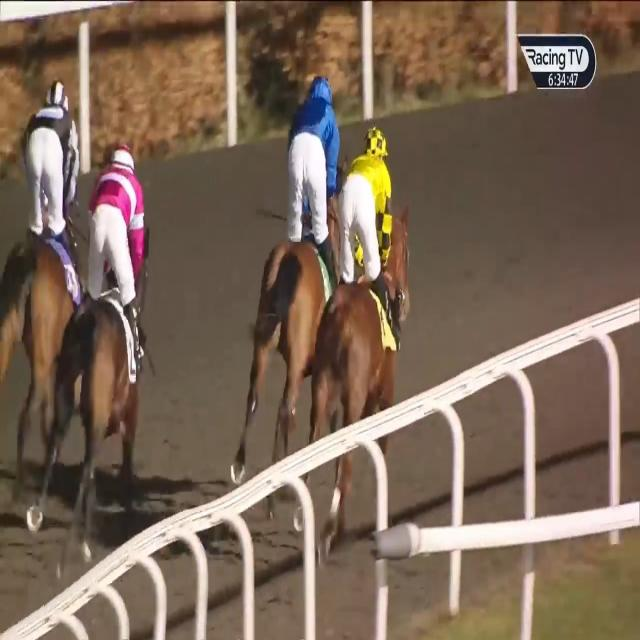horses-racing: (240, 71, 352, 464), (54, 141, 150, 554), (320, 113, 420, 498), (0, 75, 78, 508)
